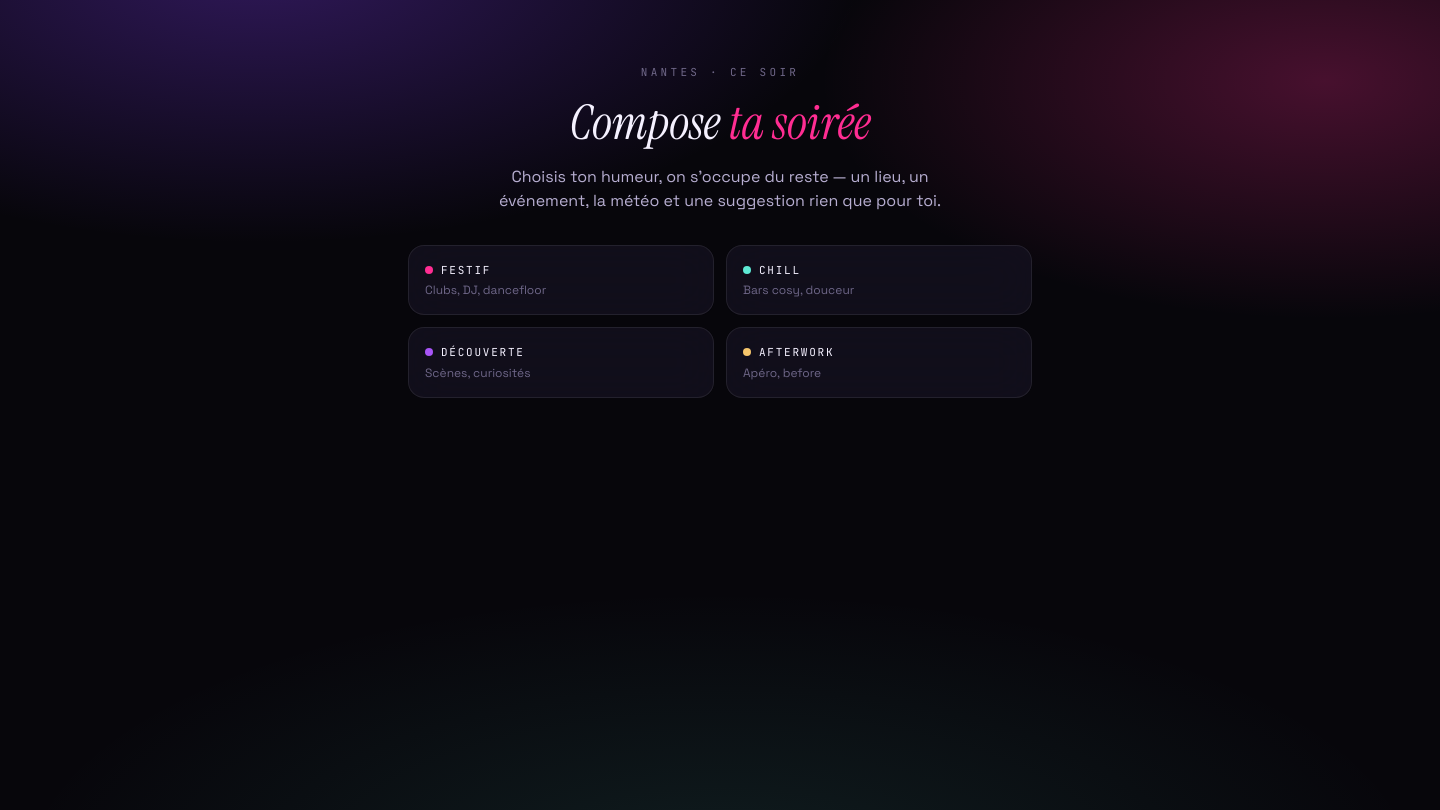
it: SoireePage › shows an error state on failure
This screenshot has width=1440, height=810.
Click the button with test id "soiree-mood": click(797, 352) [726,327,1032,398]
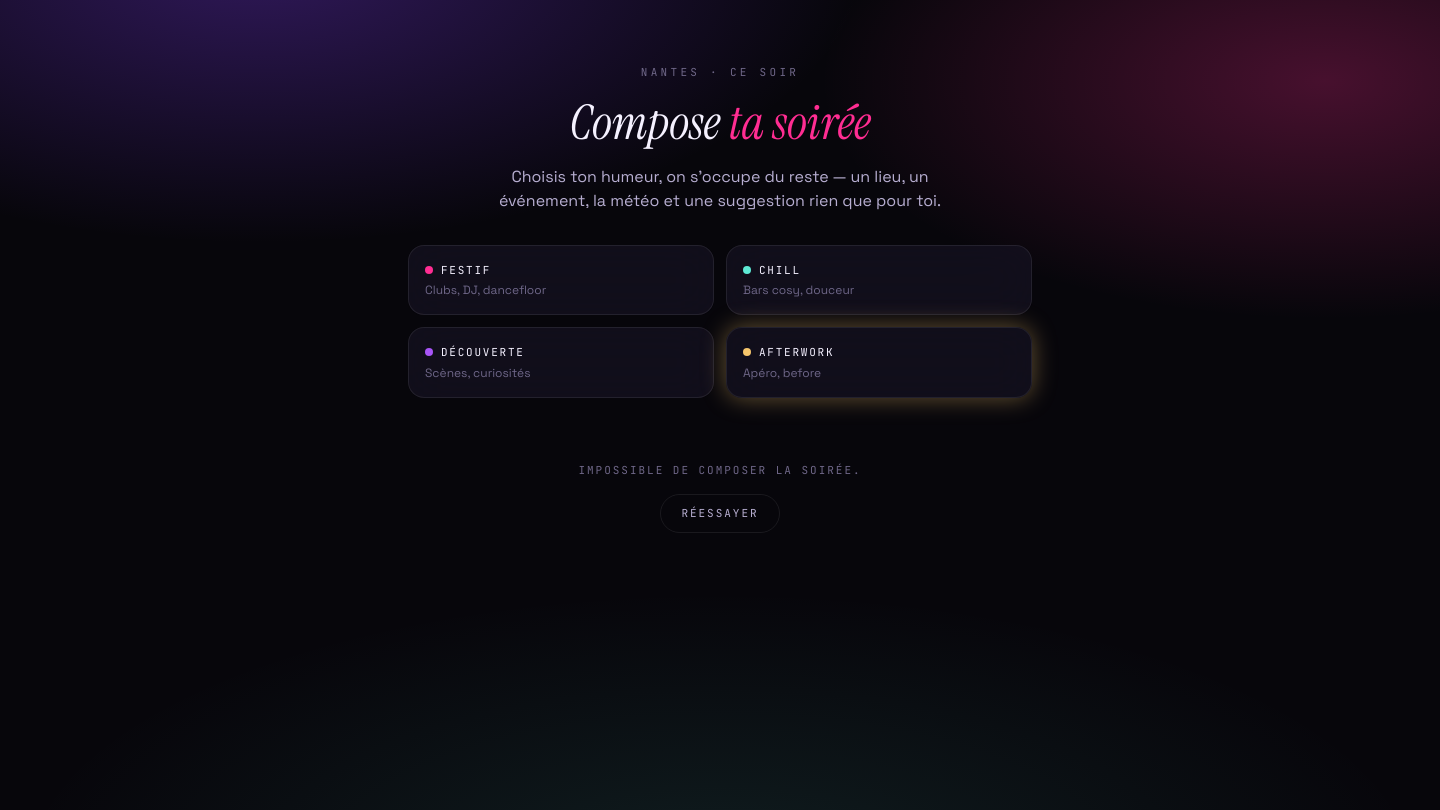
Now the element with test id "soiree-error" is shown, box [578,462,862,532]
